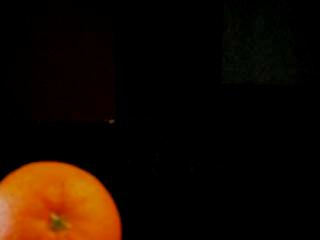Orange: (0, 161, 123, 240)
